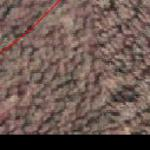alive: (3, 2, 147, 134)
